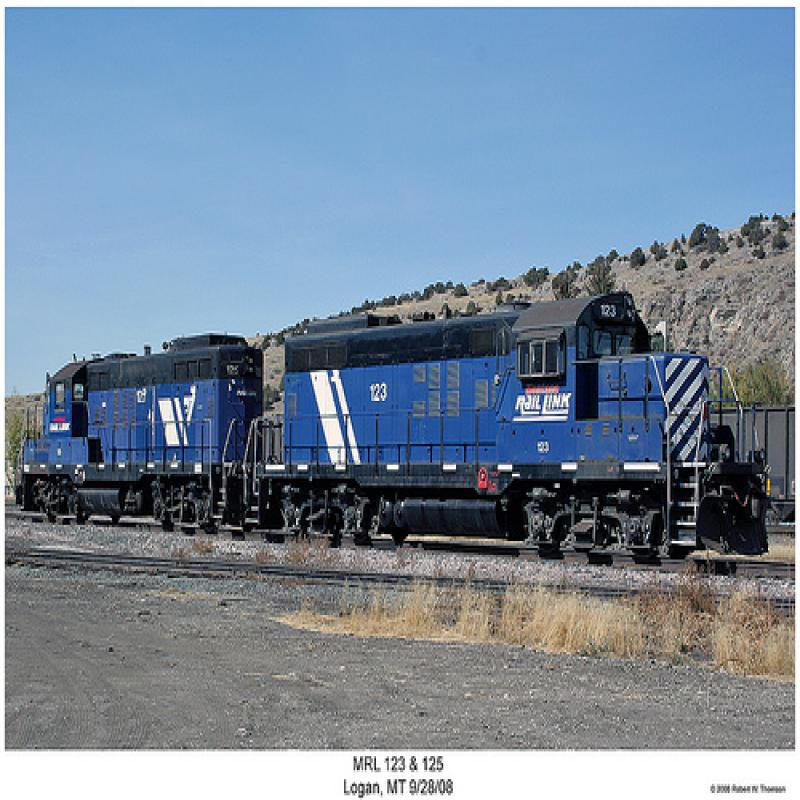train: (19, 288, 768, 570)
